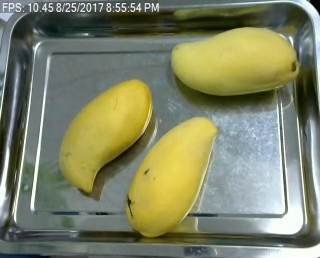Mango: (125, 115, 220, 237), (58, 78, 153, 195), (169, 27, 301, 97)
